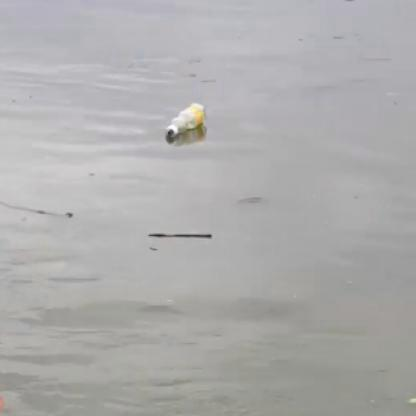Plastic: (161, 102, 207, 144)
